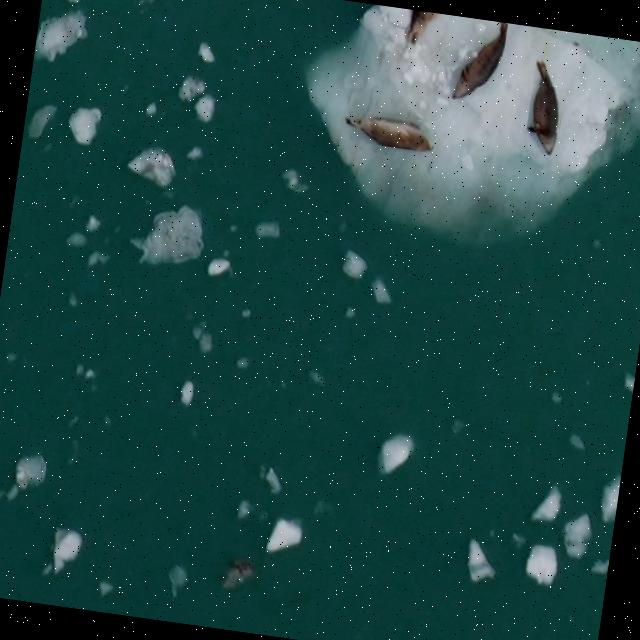seal: (446, 19, 521, 110), (523, 59, 569, 156), (342, 109, 436, 153)
